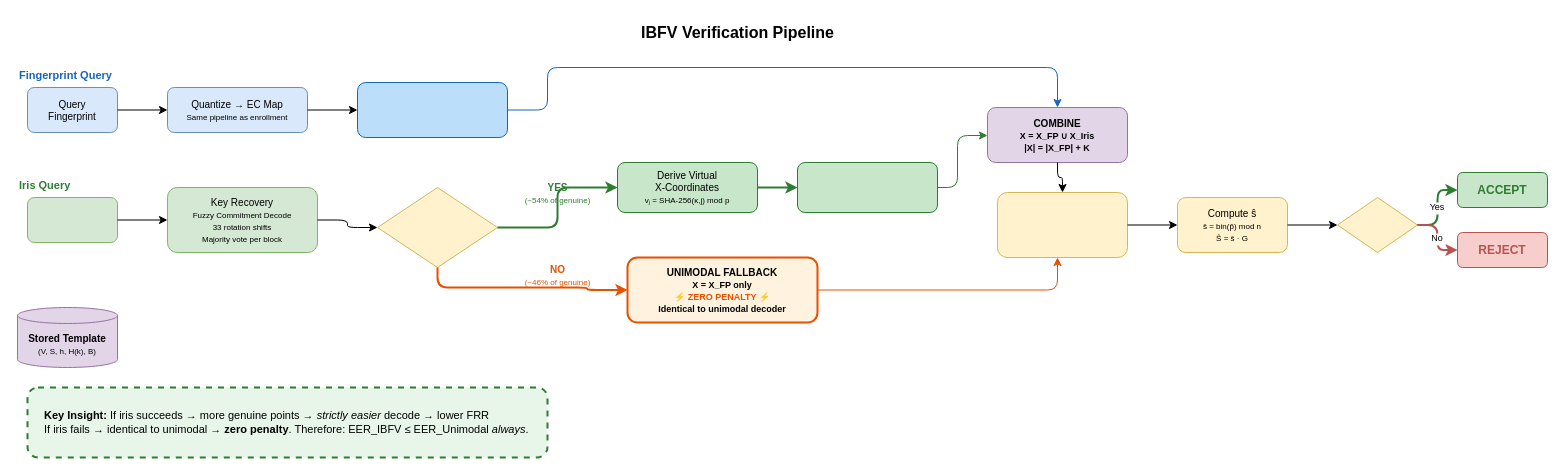
This 1565x475 diagram has some shape labels left out. The centre of each missing label's shape, as x and y in pixels:
"Bonus Match X_Iris = K guaranteed- genuine points" goes at (x=867, y=187).
"FP Match X_FP = vault points matching query x-coords" goes at (x=432, y=110).
"Iris Key Recovered?" goes at (x=437, y=227).
"Lagrange Interpolation Try (k+1)-subsets of X Reconstruct p̂(x)" goes at (x=1062, y=225).
"Query Iris" goes at (x=72, y=219).
"Ŝ = S ?" goes at (x=1377, y=224).
